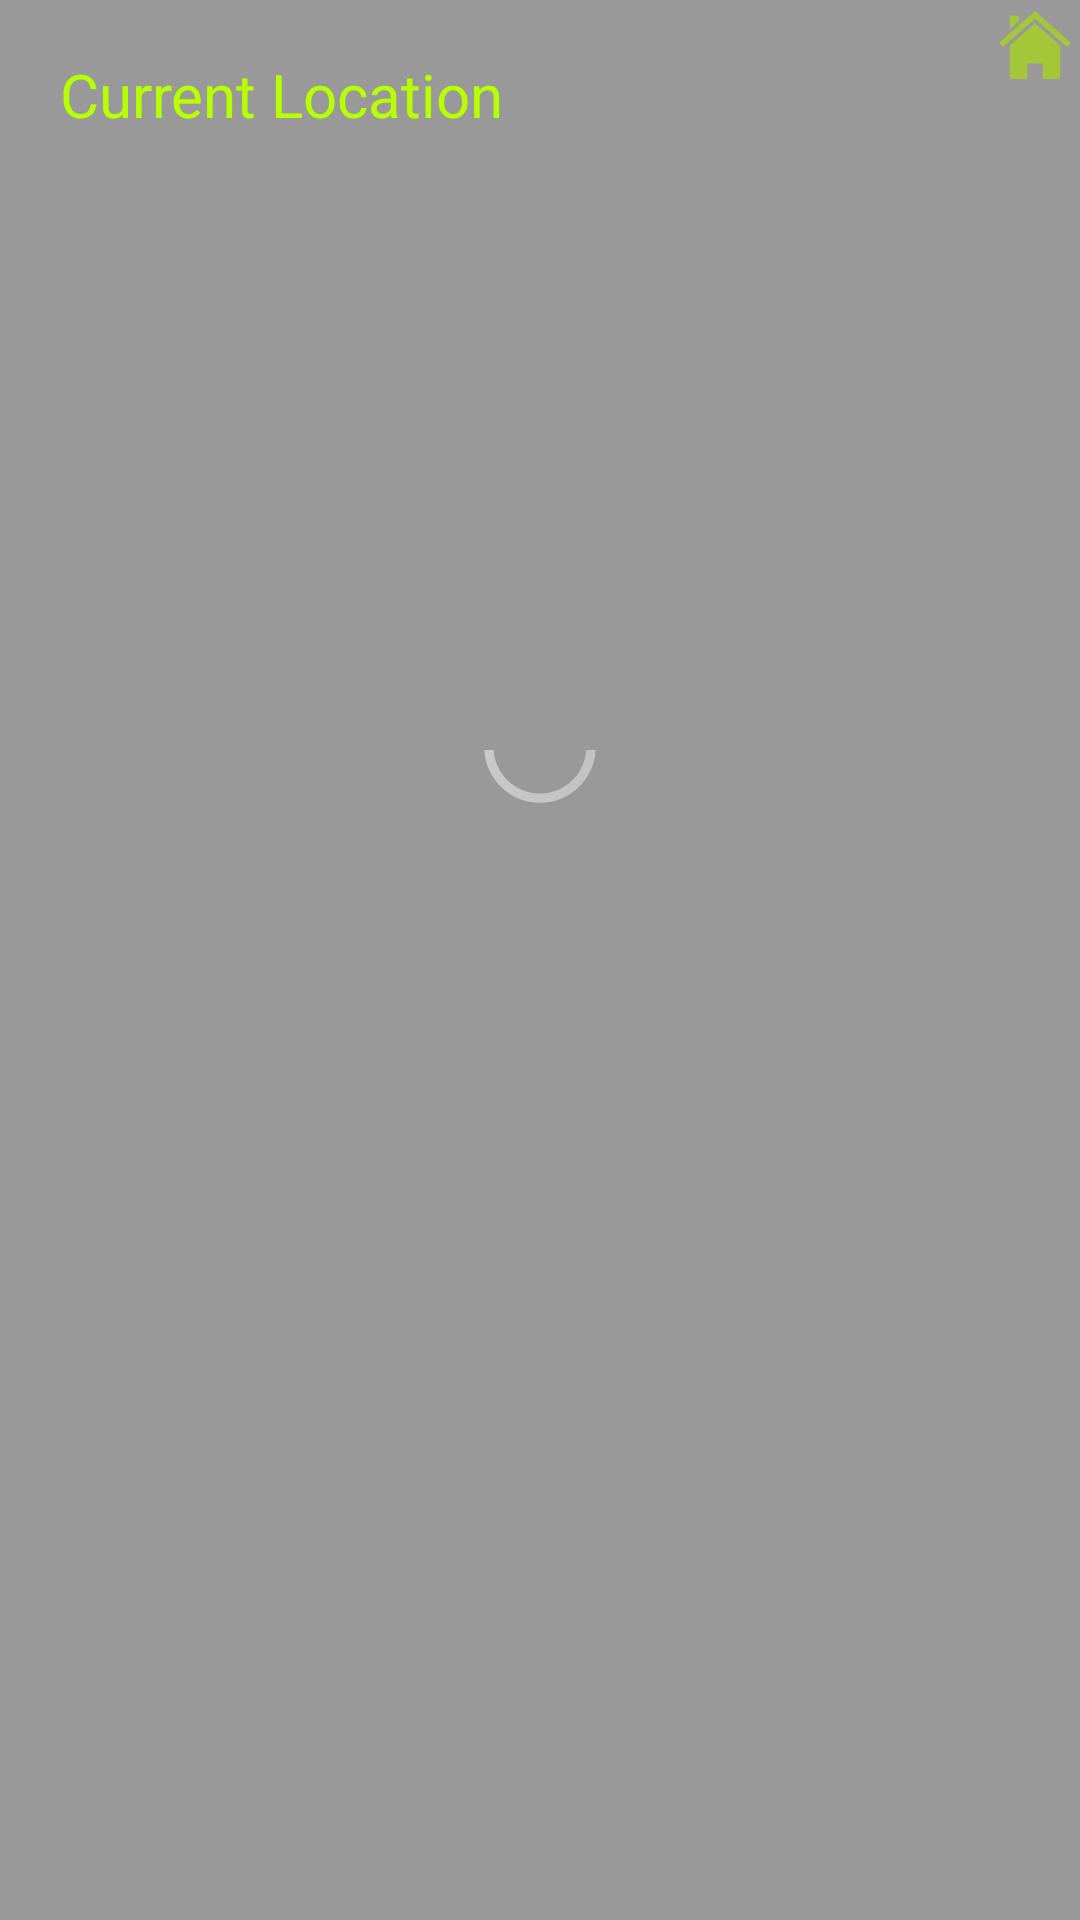

Where to tap for icons on this 1080px×1920px app screen, as point (x, y):
Home: point (1035, 45)
